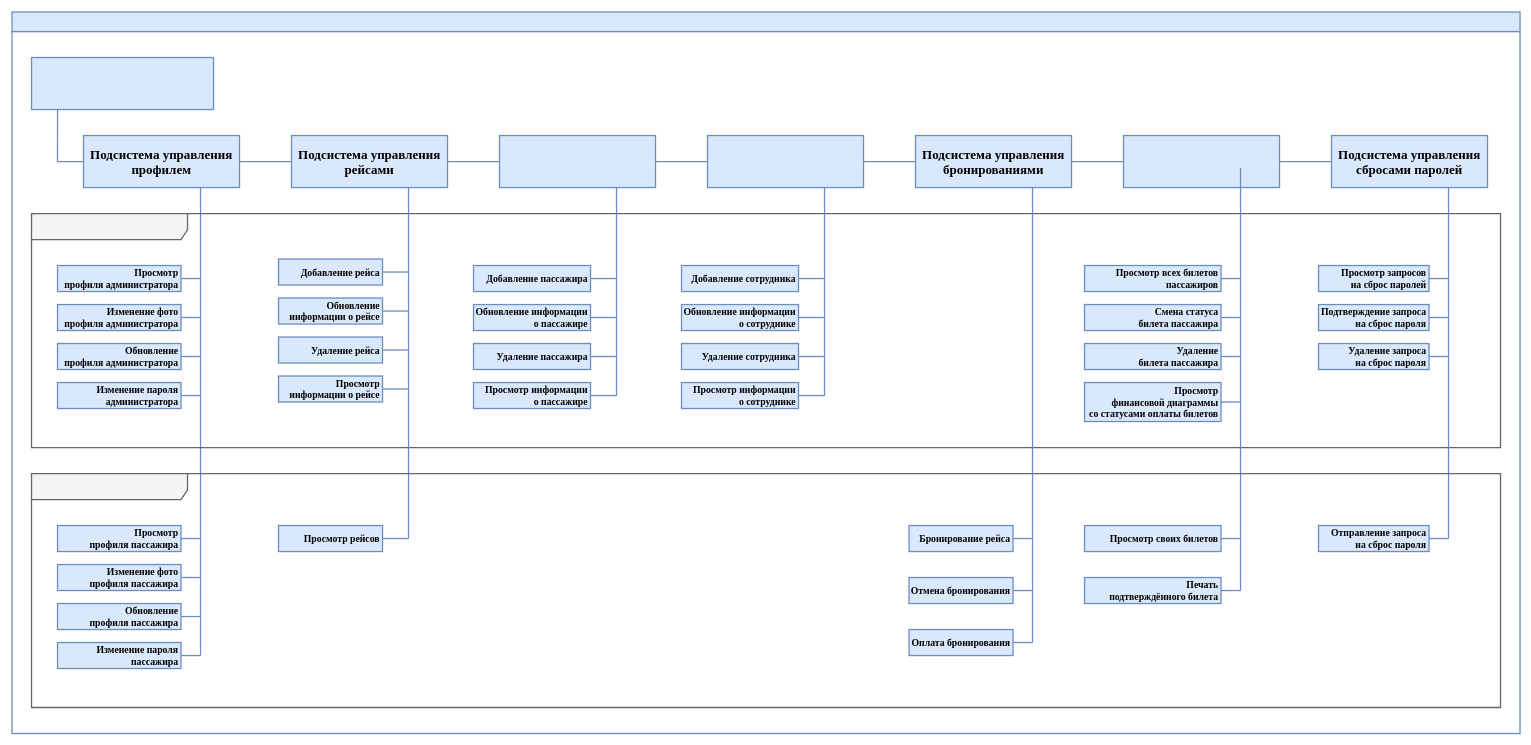
The diagram is 1531 pixels wide and 745 high, and some of its shapes have lost their labels. Each missing label, with the box of its shape:
Административная часть: (31, 213, 1501, 448)
Информационная система аэропорта: (31, 57, 214, 110)
Пассажирская часть: (31, 473, 1501, 708)
Подсистема управления билетами: (1123, 135, 1280, 188)
Подсистема управления пассажирами: (499, 135, 656, 188)
Подсистема управления сотрудниками: (707, 135, 864, 188)
Структурная схема: (11, 11, 1520, 32)
